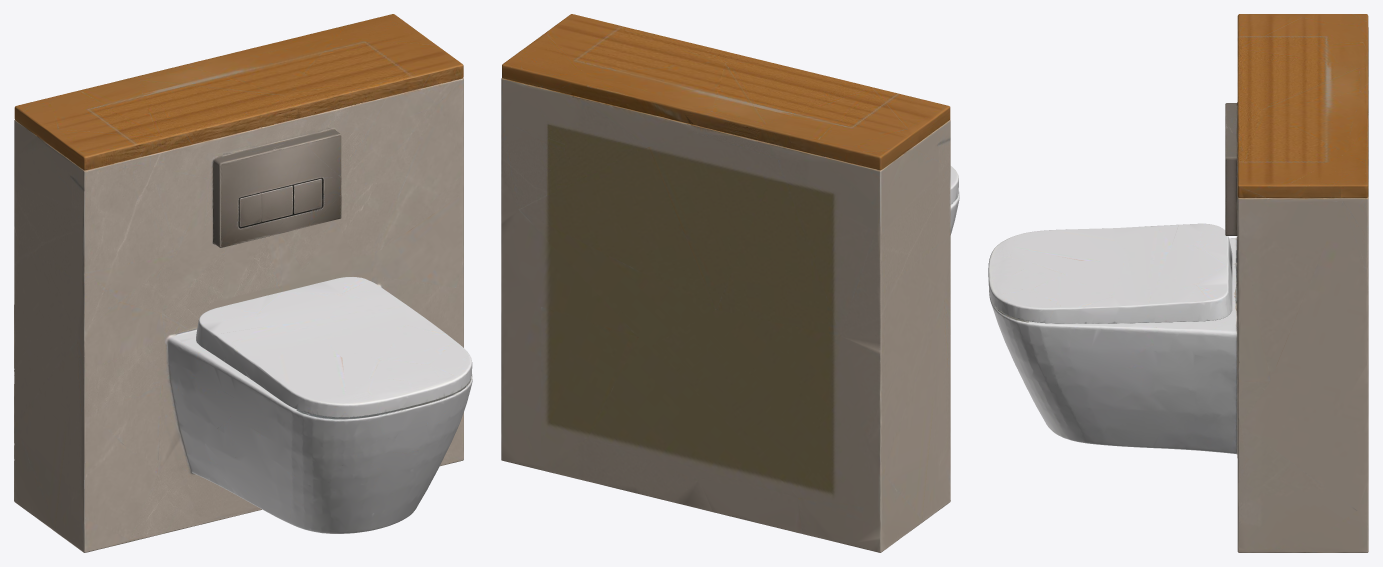
The model's file is toilet-wall-hung.glb.
3 views of the same model, side by side, from view 1: azimuth 30°, elevation 25°; view 2: azimuth 150°, elevation 25°; view 3: azimuth 270°, elevation 25° (orthographic). The views are drawn at different scales.
Visible parts, largest first — view 1: Mesh_0; view 2: Mesh_0; view 3: Mesh_0.
Boxes of the visible parts, bbox=[...] form: Mesh_0: bbox=[14, 14, 472, 552]; Mesh_0: bbox=[501, 14, 959, 552]; Mesh_0: bbox=[988, 14, 1368, 552].
Bounding box in the file's own units: 1.15 × 1.15 × 1.08.
1 material, 1 textured.
